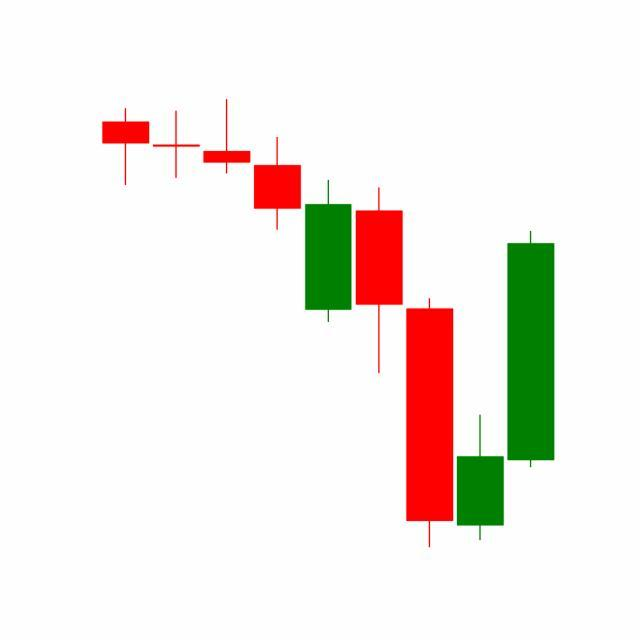Hikkake Pattern: (302, 176, 555, 549)
